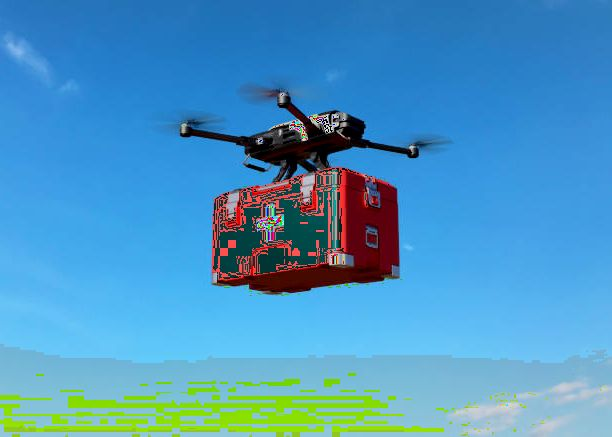Drone: (164, 77, 452, 178)
